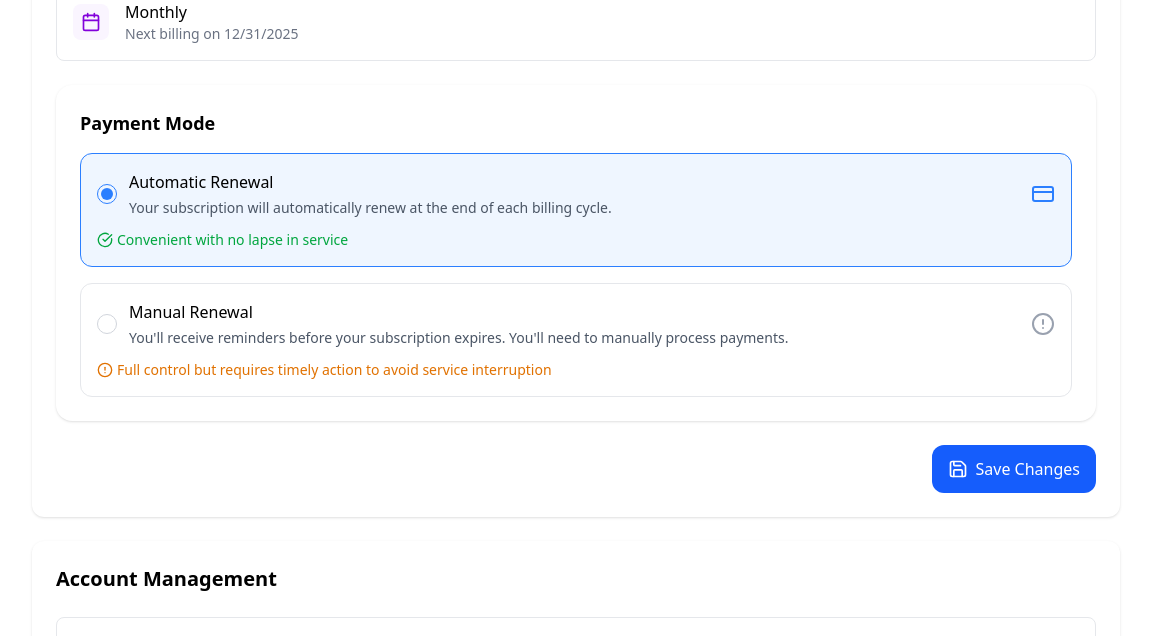
Scenario: AccountInformationPage › handles API errors when updating payment mode
(page scrolled)
Check: the element with test id "payment-mode-section" is shown, box left=56, top=85, right=1096, bottom=421
// Change payment mode to manual and confirm
Click the element with test id "manual-payment-option" at (576, 340), box left=80, top=283, right=1072, bottom=397
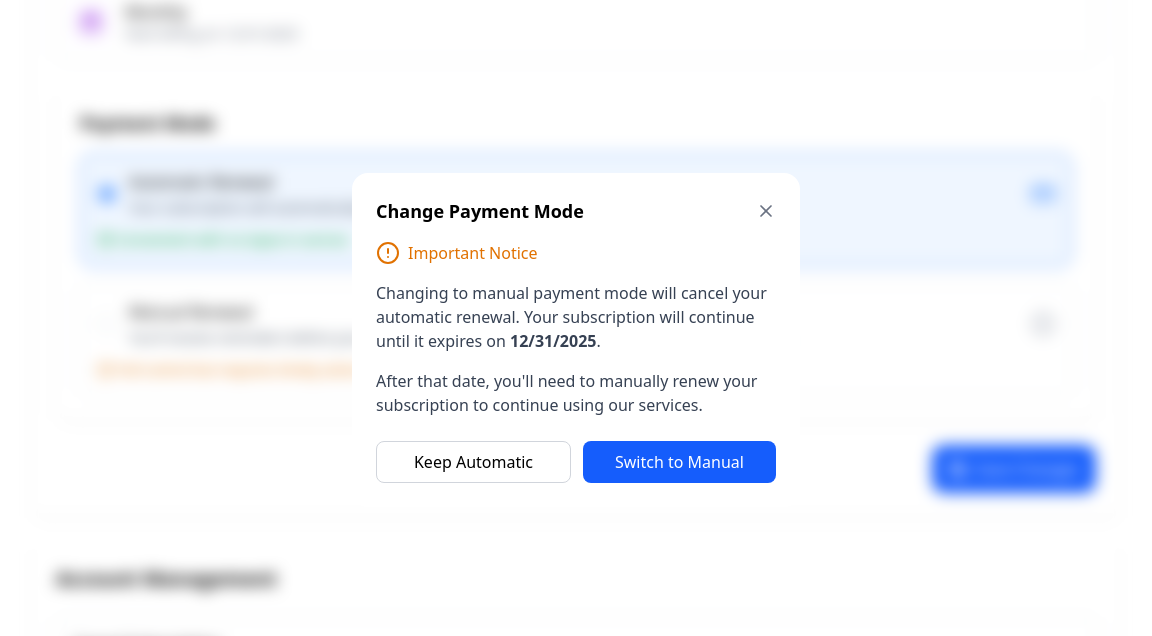
Click the button with test id "switch-to-manual-button" at (680, 462), box left=583, top=441, right=776, bottom=483
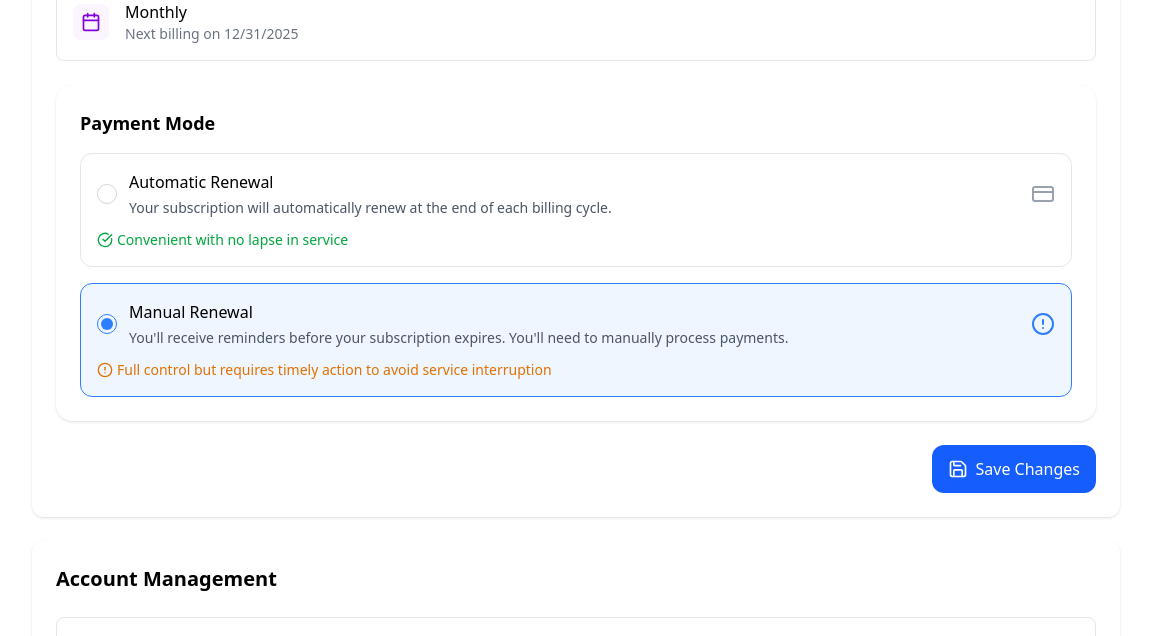
// Save changes
Click the button with test id "save-payment-mode-button" at (1014, 469), box left=932, top=445, right=1096, bottom=493
(page scrolled)
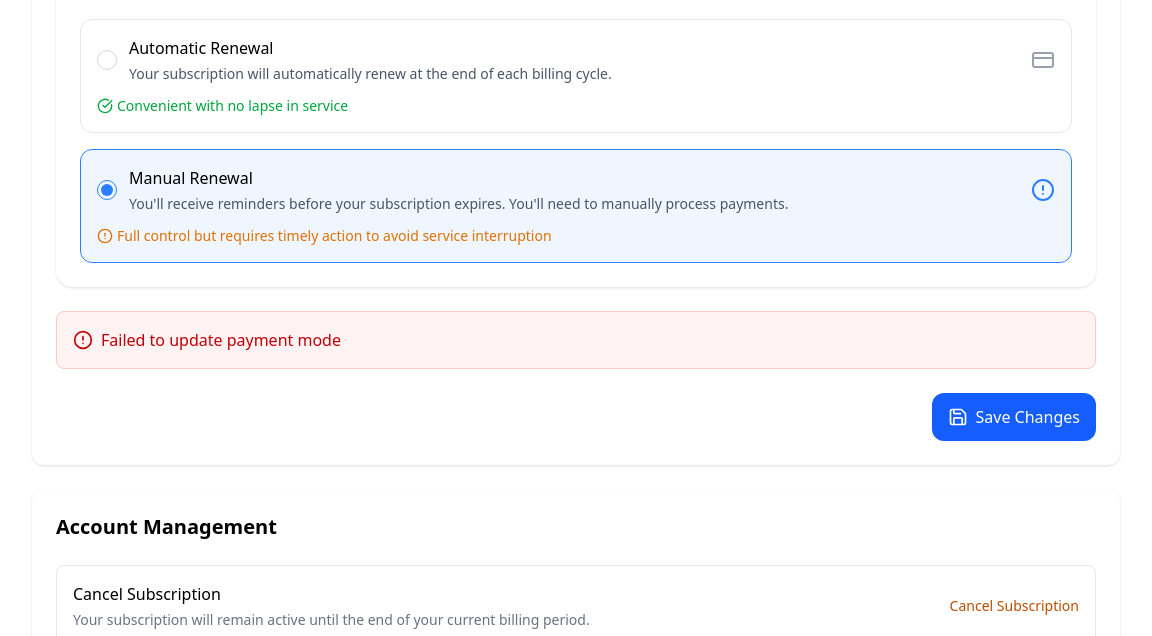
Check: the element with test id "payment-mode-error" is shown, box left=56, top=311, right=1096, bottom=369
Check: the element with test id "payment-mode-error" reads "Failed to update payment mode", box left=101, top=329, right=341, bottom=351
